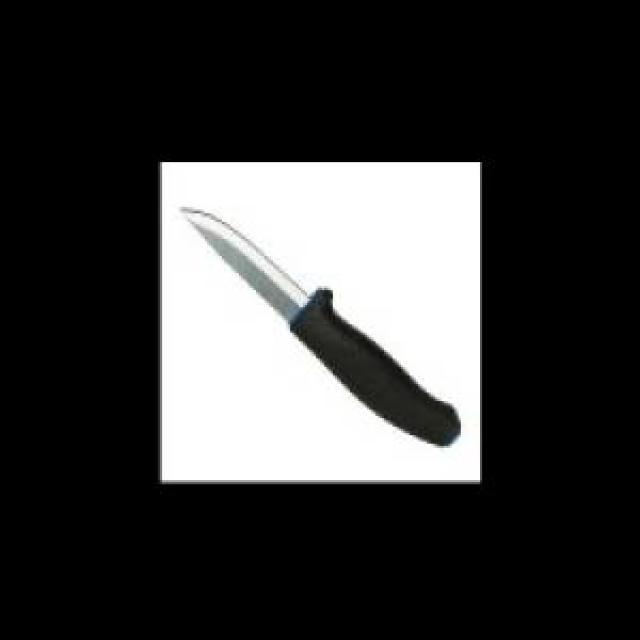knife: (177, 202, 468, 456)
